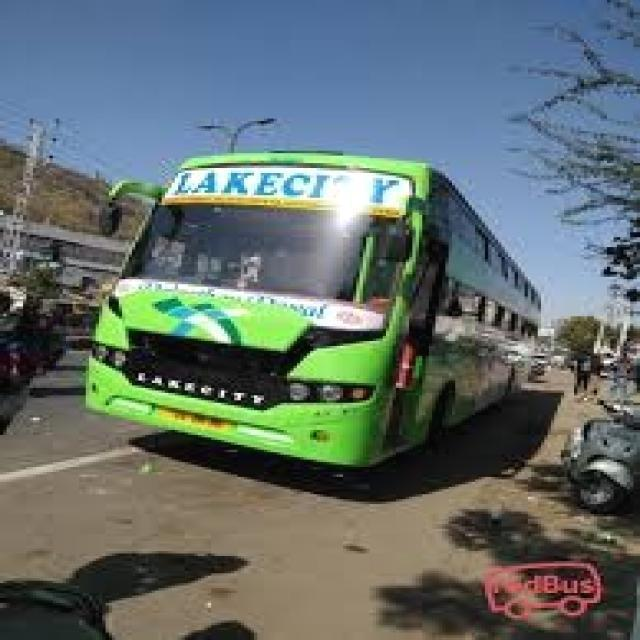Bus: (62, 140, 554, 507)
